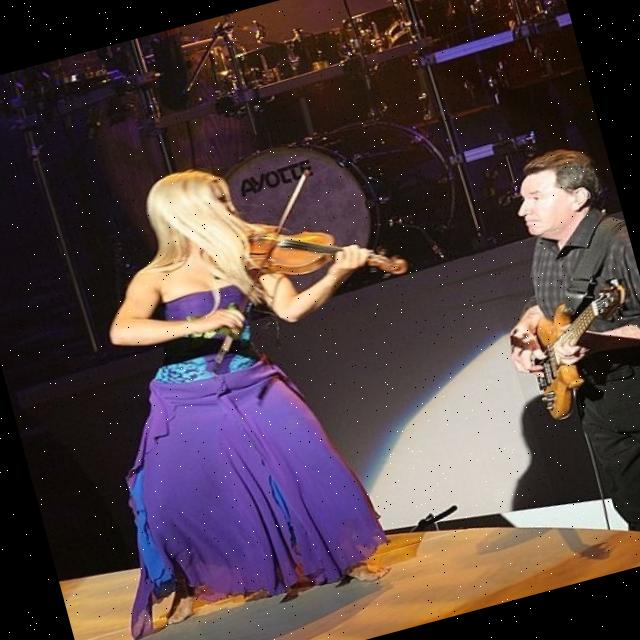violin: (223, 186, 412, 320)
